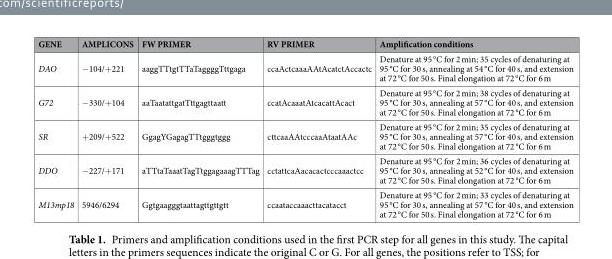table: (37, 37, 572, 219)
table column: (374, 37, 572, 219), (136, 37, 262, 219), (262, 37, 374, 219), (77, 37, 136, 219), (37, 37, 77, 219)
table column header: (37, 37, 572, 50)
table row: (37, 84, 572, 119), (37, 50, 572, 84), (37, 119, 572, 153), (37, 153, 572, 187), (37, 187, 572, 219), (37, 37, 572, 50)
